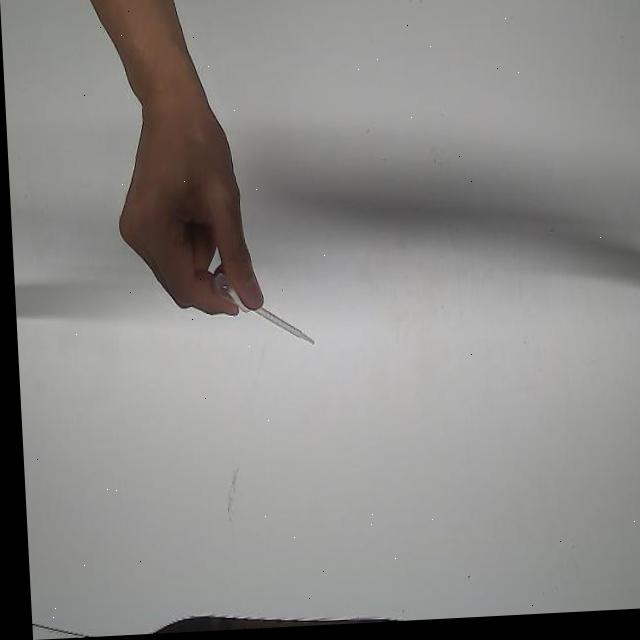Disposable Pasteur Pipette - Sealed: (208, 267, 316, 358)
